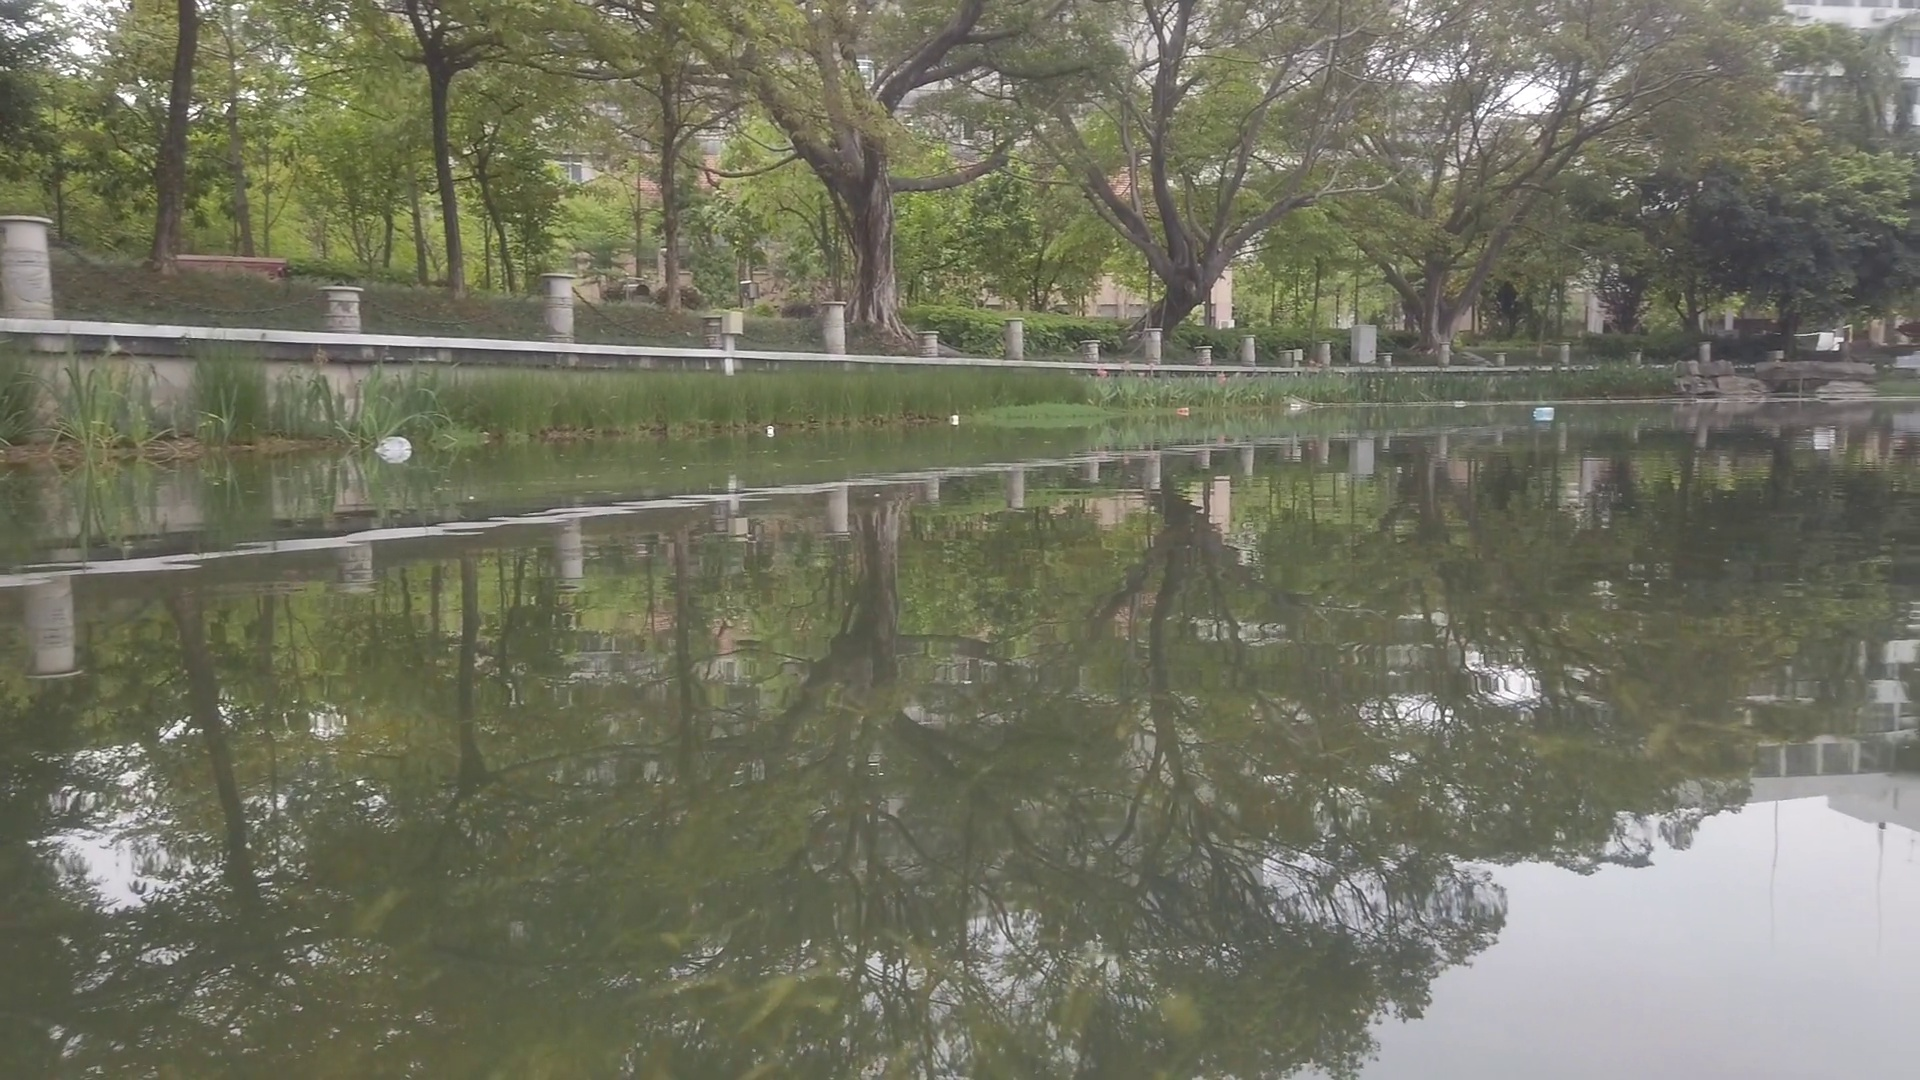bottle: (1291, 402, 1304, 411), (766, 425, 774, 436), (1456, 400, 1468, 407), (1178, 407, 1188, 415)
carton: (1534, 407, 1555, 421), (949, 414, 959, 425)
plastic: (378, 435, 411, 454)
